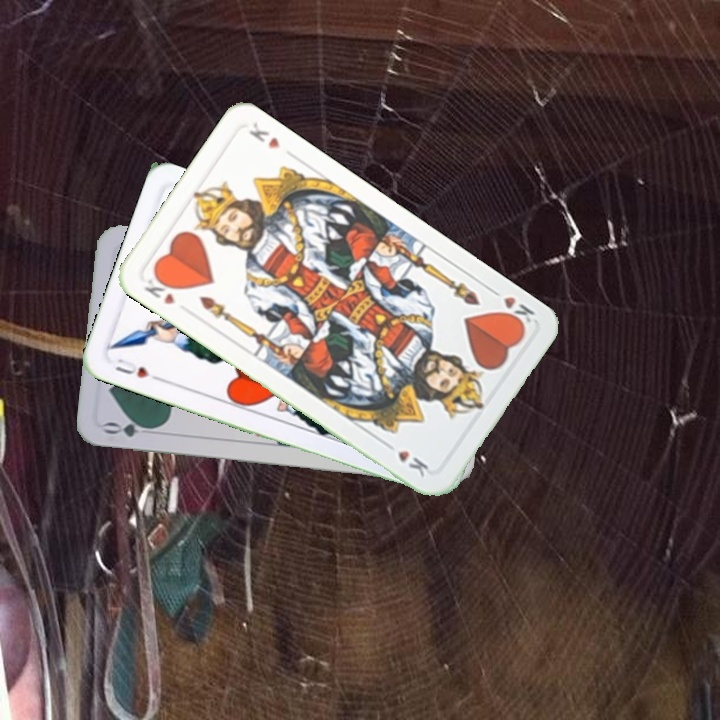GO: (100, 417, 160, 439)
HK: (485, 284, 538, 331), (140, 269, 180, 308)
HU: (110, 354, 163, 384)
